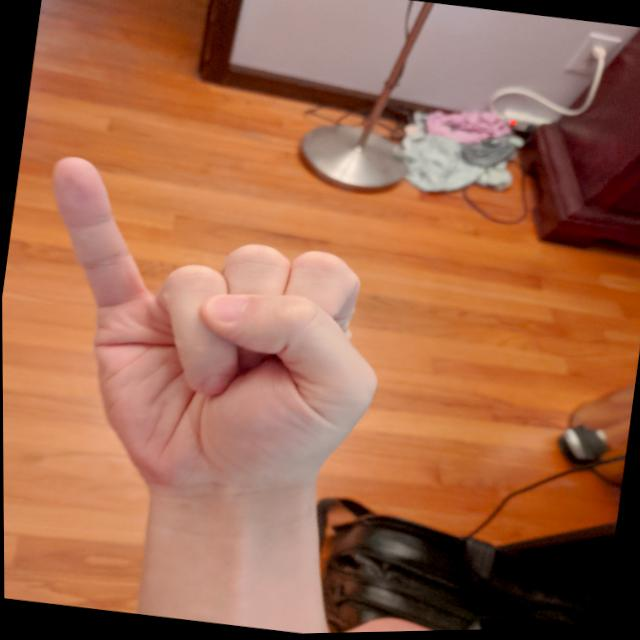I: (2, 143, 414, 534)
